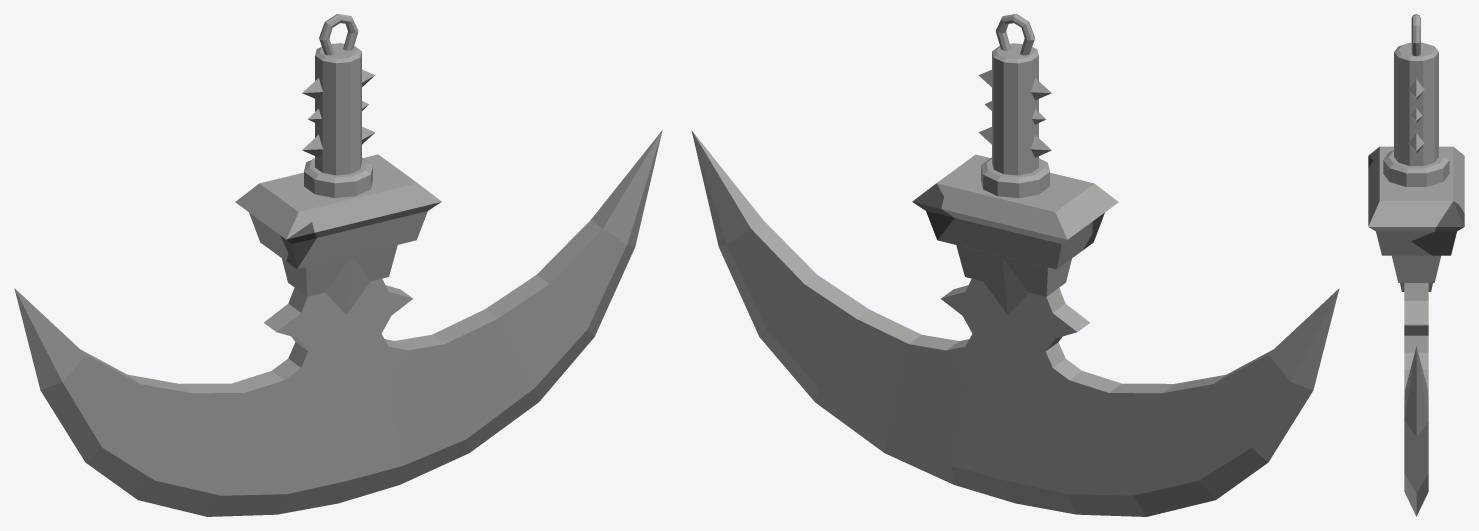
File: MetalPendulumTrap_2.fbx
3 views of the same model, side by side, from view 1: azimuth 30°, elevation 25°; view 2: azimuth 150°, elevation 25°; view 3: azimuth 270°, elevation 25° (orthographic). The views are drawn at different scales.
Visible parts, largest first — view 1: MetalPendulumTrap_2; view 2: MetalPendulumTrap_2; view 3: MetalPendulumTrap_2.
Part boxes in pixels (x1,y1,x2,y2): MetalPendulumTrap_2: (14, 14, 662, 516); MetalPendulumTrap_2: (691, 14, 1339, 516); MetalPendulumTrap_2: (1368, 14, 1464, 516).
Bounding box in the file's own units: 152 × 109 × 20.83.
